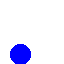circle: (10, 44, 30, 64)
